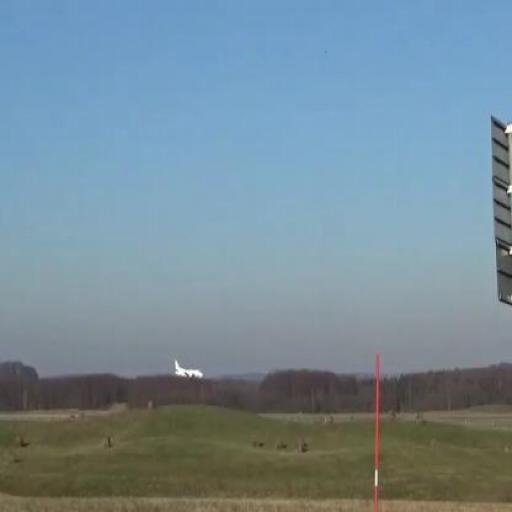aircraft: (174, 359, 204, 379)
